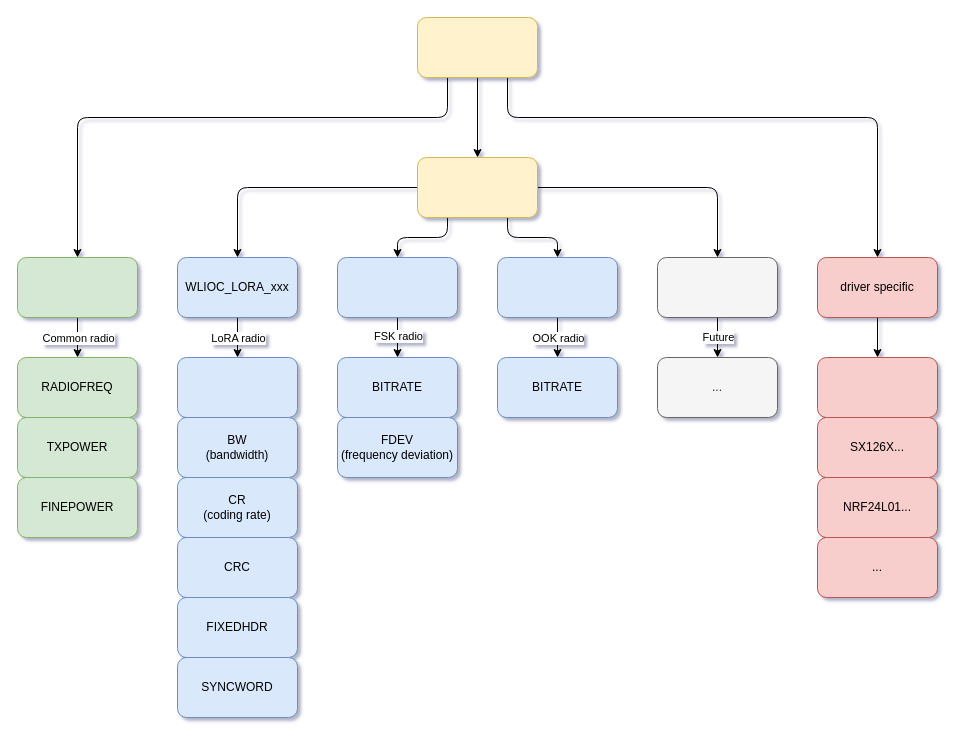
Some shapes in this 961 by 741 pixel diagram are drawn without their labels. The centre of each missing label's shape, as x and y in pixels:
"IOCTL" belongs at (477,47).
"SF (spreading factor)" belongs at (237,387).
"SX127X..." belongs at (877,387).
"WLIOC_FSK_xxx" belongs at (397,287).
"WLIOC_OOK_xxx" belongs at (557,287).
"WLIOC_SETMODU" belongs at (477,187).
"WLIOC_xxx" belongs at (77,287).
"WLIOC_yyy_xxx" belongs at (717,287).
